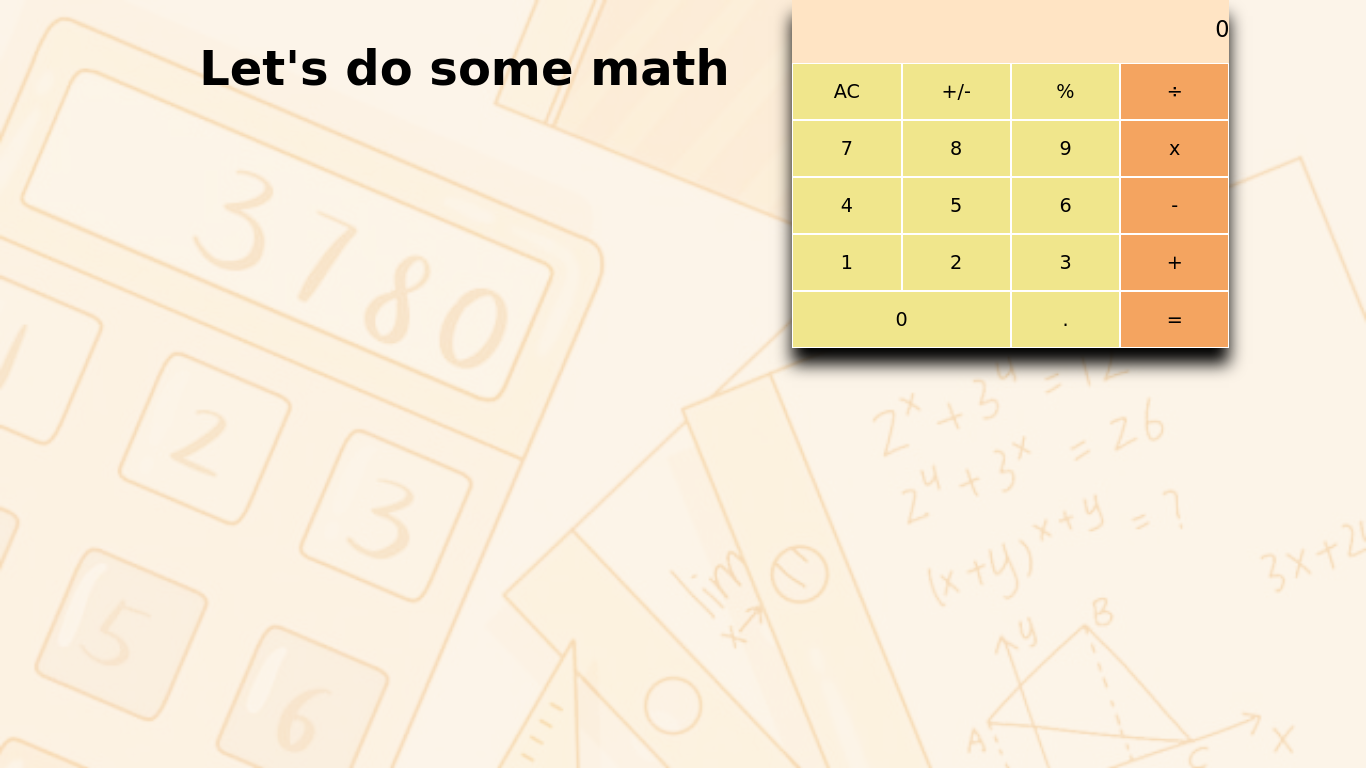
Test: Testing user interaction › Should display addition of two negative numbers
Step 1. Click the button "3" → (1065, 262), box [1011,234,1120,291]
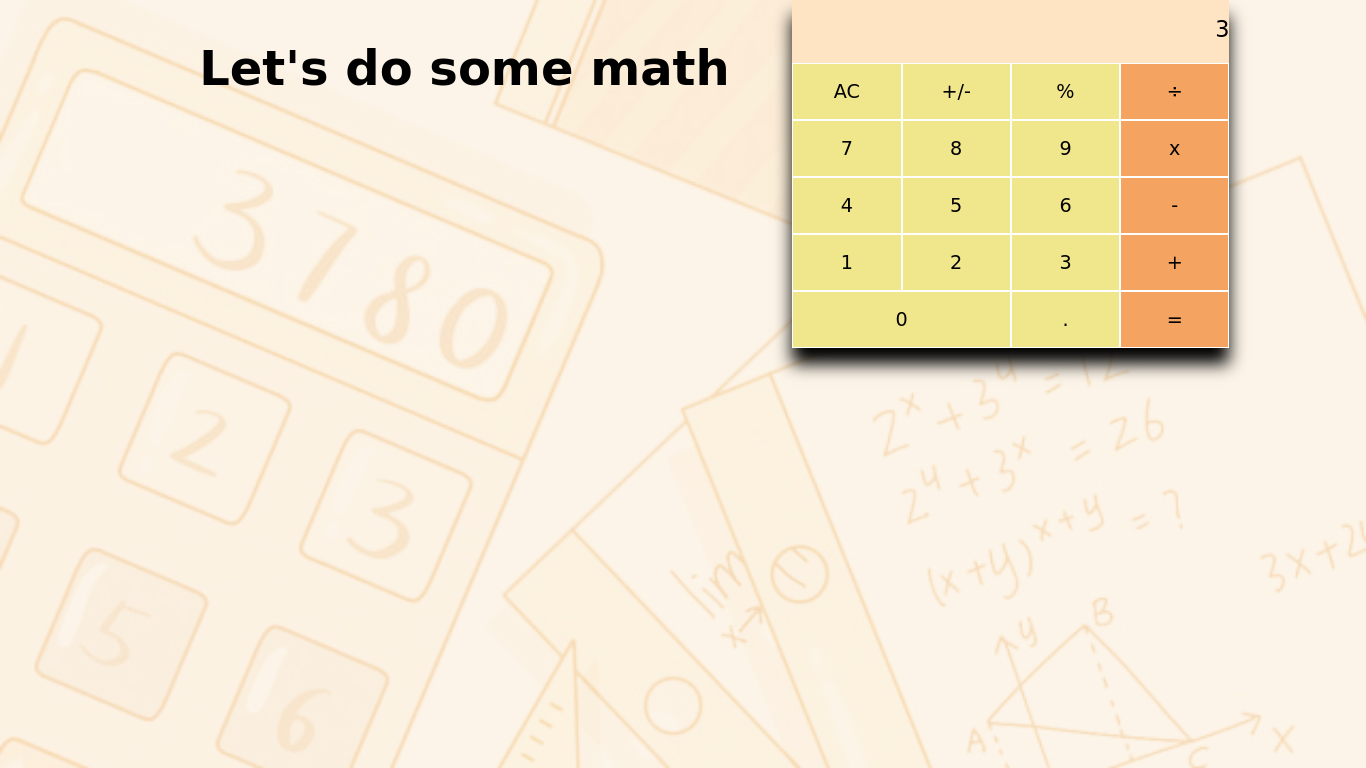
Step 2. Click the button "+/-" → (956, 91), box [902,63,1011,120]
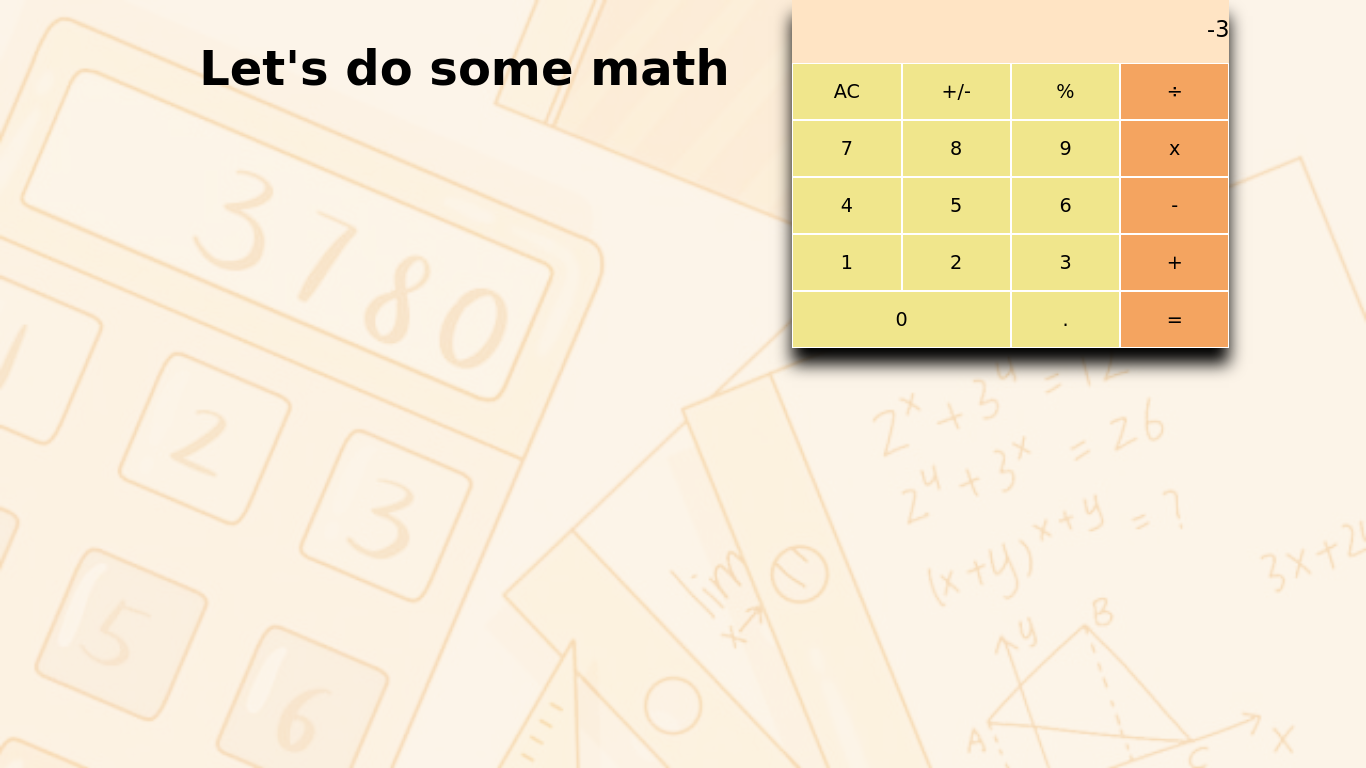
Step 3. Click the button "-" → (1175, 205), box [1120,177,1229,234]
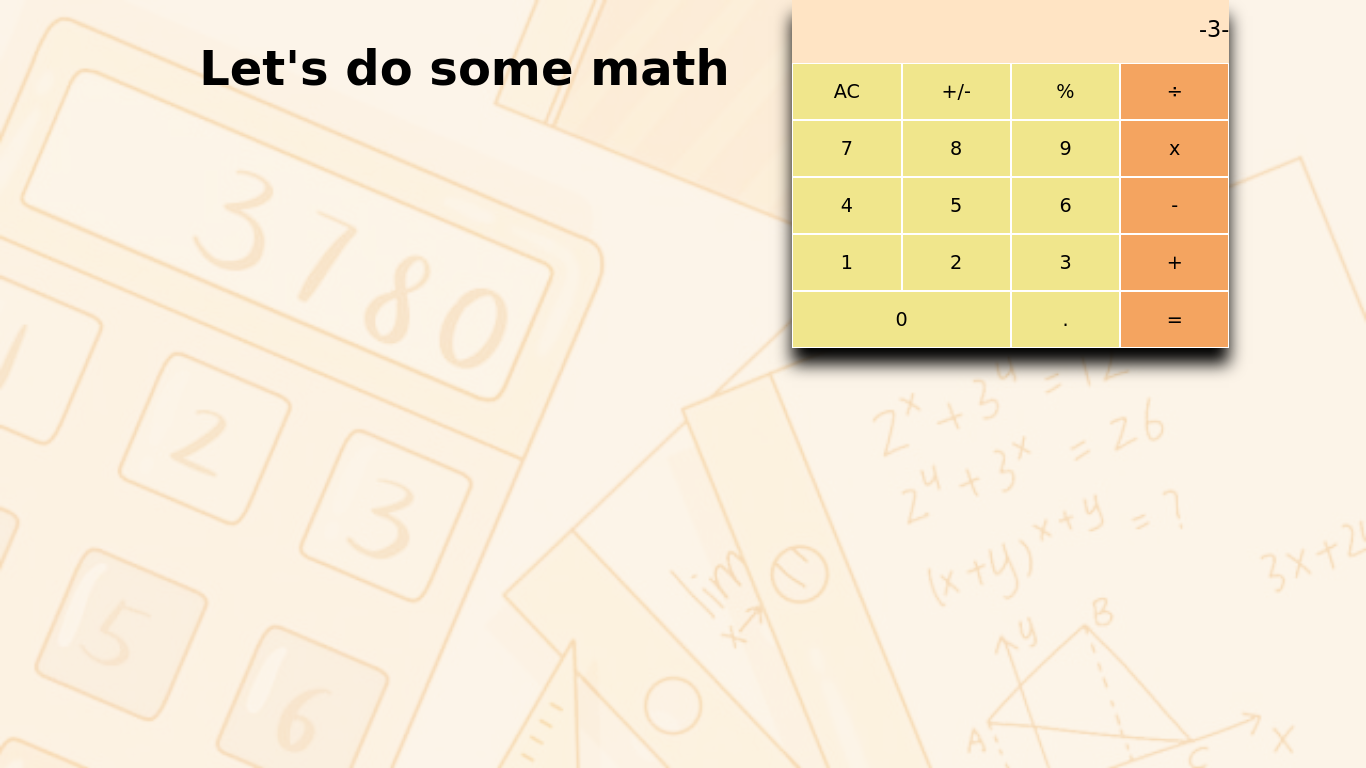
Step 4. Click the button "2" → (956, 262), box [902,234,1011,291]
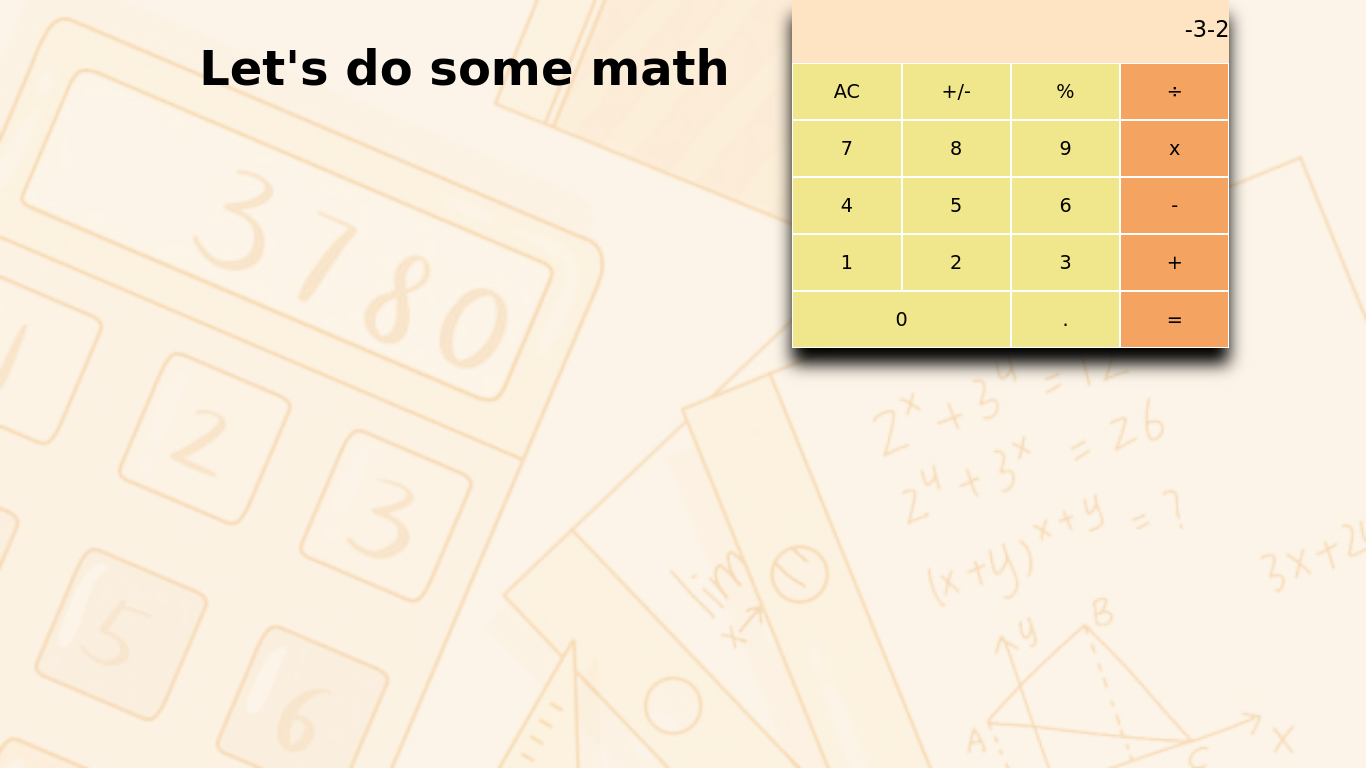
Step 5. Click the button "=" → (1175, 319), box [1120,291,1229,348]
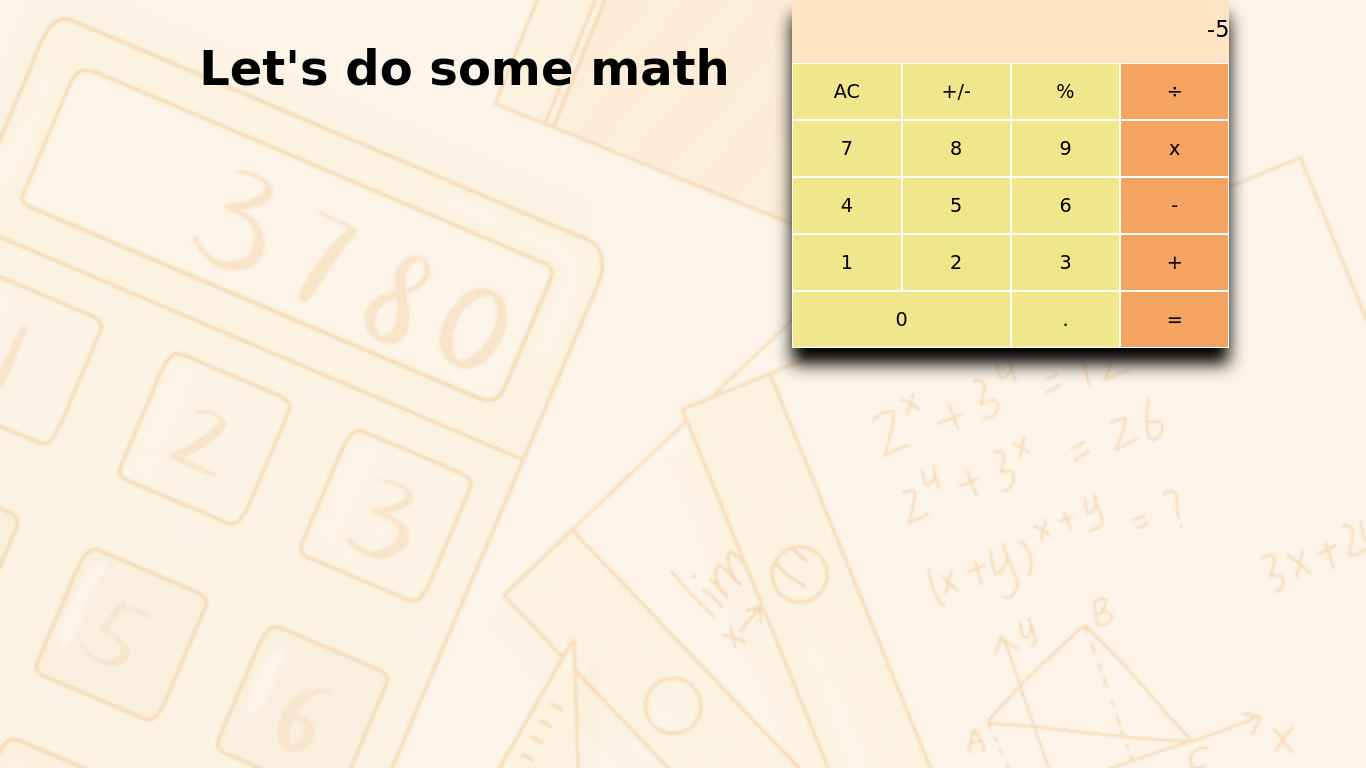
expect the text with class "display" reads "-5": met, box [1207,16,1229,42]
